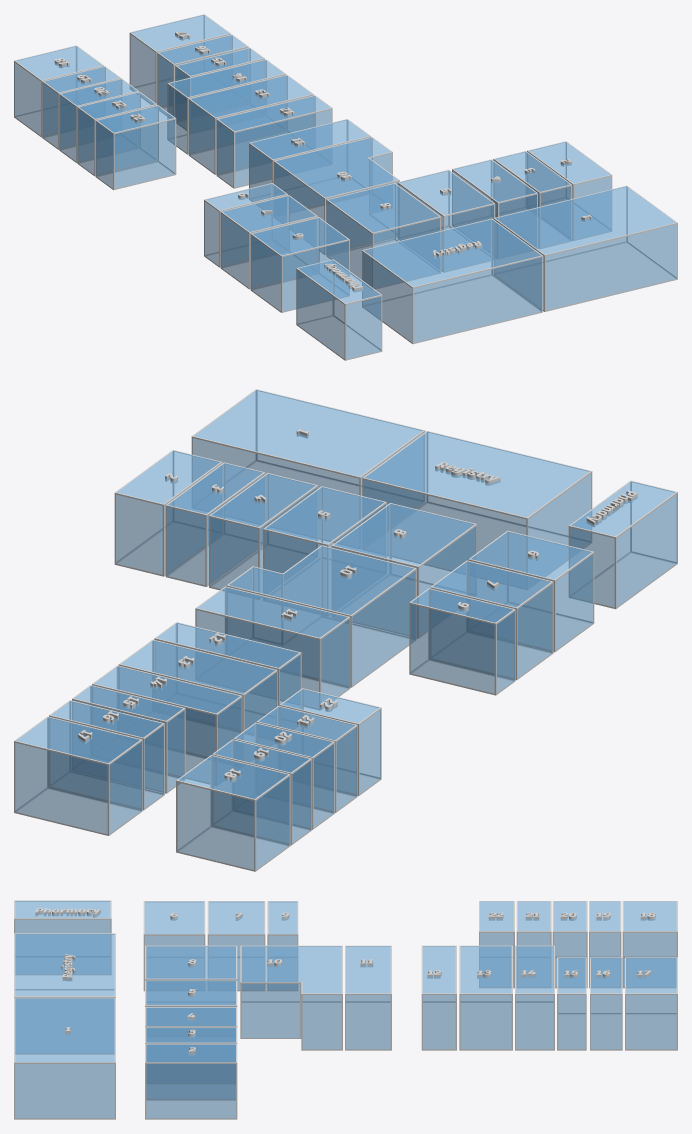
Rendered from Hospital_Selection_Boxes_FirstFloor1.glb.
The picture shows the model from 3 angles, top to bottom: view 1: azimuth 30°, elevation 25°; view 2: azimuth 150°, elevation 25°; view 3: azimuth 270°, elevation 25°; orthographic projection. The views are drawn at different scales.
Visible parts, largest first — view 1: Room_1, Room_Registry, Room_10, Room_8, Room_13, Room_11, Room_6, Room_7, Room_12, Room_Pharmacy, Room_5, Room_14 (+12 smaller); view 2: Room_Registry, Room_1, Room_10, Room_8, Room_17, Room_11, Room_7, Room_18, Room_Pharmacy, Room_13, Room_6, Room_2 (+12 smaller); view 3: Room_1, Room_Registry, Room_10, Room_2, Room_Pharmacy, Room_3, Room_13, Room_8, Room_11, Room_17, Room_6, Room_7 (+12 smaller).
Boxes of the visible parts, box(x1,y1,x2,y2) form: Room_1: box(493, 185, 677, 311); Room_Registry: box(362, 218, 542, 344); Room_10: box(273, 137, 399, 254); Room_8: box(326, 183, 441, 289); Room_13: box(188, 74, 313, 174); Room_11: box(249, 119, 371, 211); Room_6: box(250, 217, 349, 312); Room_7: box(220, 195, 317, 289); Room_12: box(216, 95, 332, 188); Room_Pharmacy: box(296, 259, 382, 360); Room_5: box(397, 169, 495, 272); Room_14: box(167, 59, 285, 154); Room_Registry: box(362, 431, 592, 589); Room_1: box(191, 389, 425, 548); Room_10: box(226, 545, 416, 687); Room_8: box(331, 503, 476, 638); Room_17: box(14, 716, 142, 835); Room_11: box(195, 586, 350, 710); Room_7: box(430, 560, 553, 680); Room_18: box(176, 755, 290, 871); Room_Pharmacy: box(568, 480, 677, 609); Room_13: box(118, 639, 277, 760); Room_6: box(468, 530, 594, 652); Room_2: box(114, 450, 222, 576); Room_1: box(14, 997, 115, 1119); Room_Registry: box(14, 933, 115, 1052); Room_10: box(240, 945, 342, 1050); Room_2: box(145, 1043, 237, 1119); Room_Pharmacy: box(14, 900, 111, 974); Room_3: box(145, 1027, 237, 1098); Room_13: box(459, 945, 512, 1050); Room_8: box(145, 945, 237, 1004); Room_11: box(345, 945, 391, 1050); Room_17: box(625, 957, 677, 1050); Room_6: box(143, 901, 205, 991); Room_7: box(207, 901, 265, 991).
Size of the model in its own units: 20.17 by 3.42 by 34.87.
